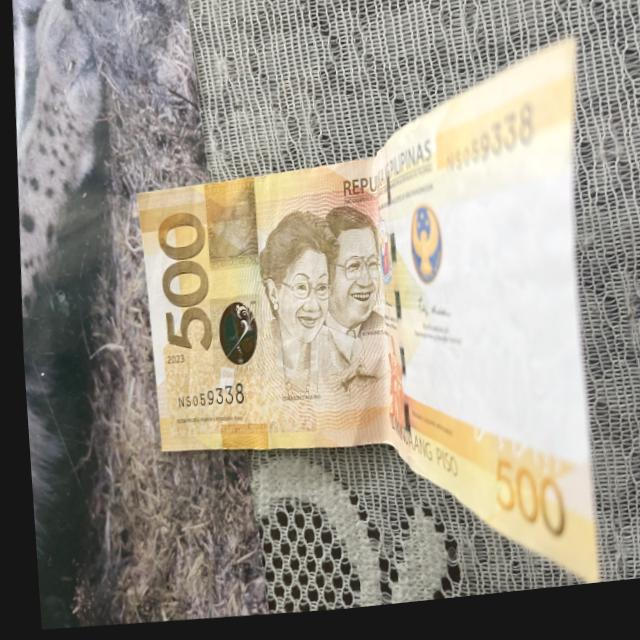concealed_value: (195, 175, 254, 277)
optically_variable_device: (202, 297, 259, 387)
value: (147, 204, 215, 361)
